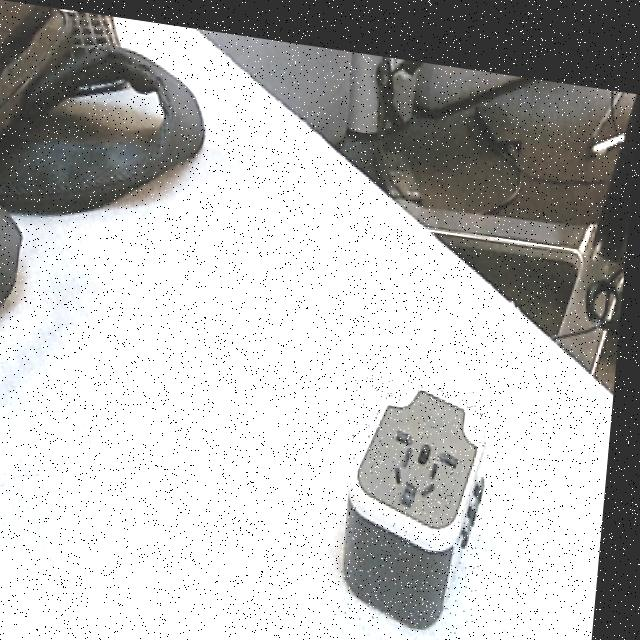adapter: (345, 361, 500, 621)
